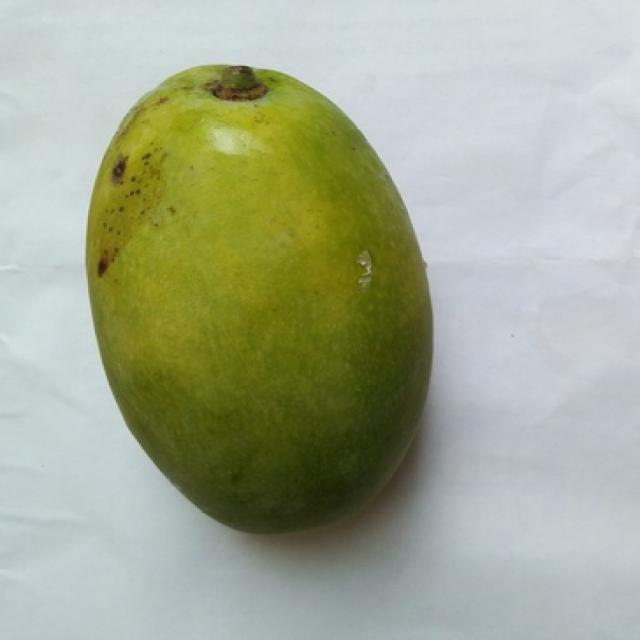Mango: (86, 65, 431, 531)
